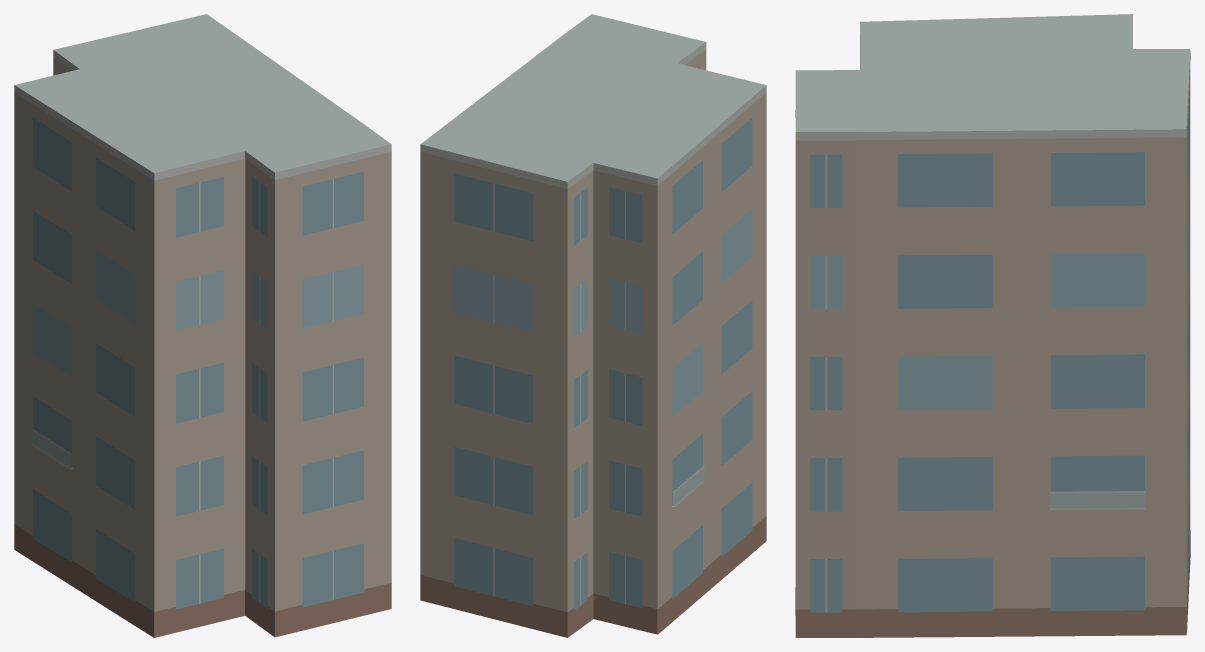
File: survey-upis-32751912.glb
The picture shows the model from 3 angles, left to right: view 1: azimuth 30°, elevation 25°; view 2: azimuth 150°, elevation 25°; view 3: azimuth 270°, elevation 25°; orthographic projection. The views are drawn at different scales.
Visible parts, largest first — view 1: survey-upis-32751912.tmp; view 2: survey-upis-32751912.tmp; view 3: survey-upis-32751912.tmp.
Boxes of the visible parts, box(x1,y1,x2,y2) form: survey-upis-32751912.tmp: box(14, 14, 391, 637); survey-upis-32751912.tmp: box(420, 14, 766, 637); survey-upis-32751912.tmp: box(795, 14, 1190, 637).
Size of the model in its own units: 7.65 by 15.25 by 10.8.
